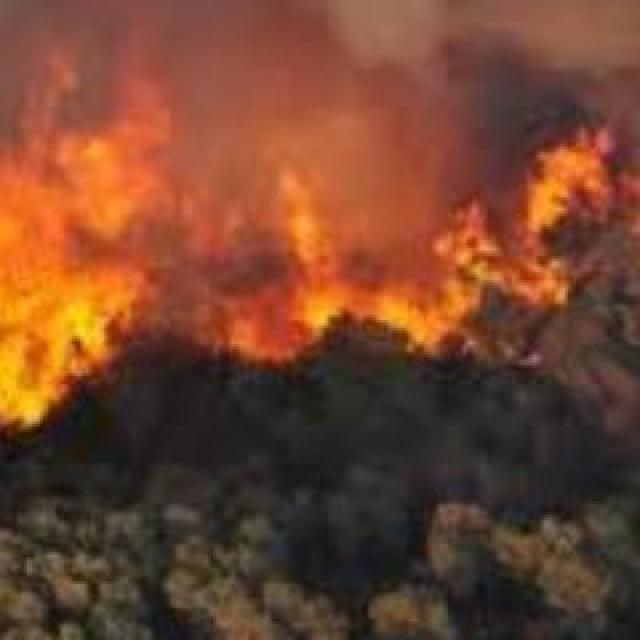Fire: (159, 10, 415, 378), (0, 7, 151, 444), (435, 148, 636, 384)
Smoke: (447, 27, 581, 136)
